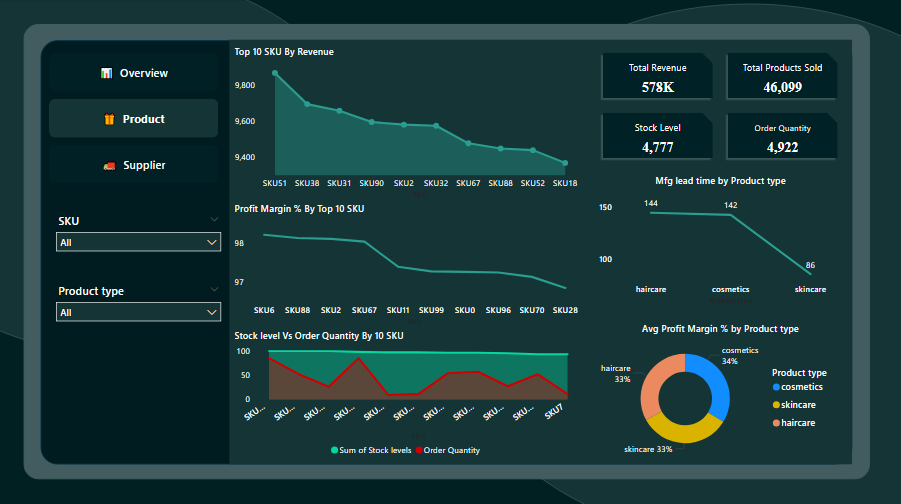

The page's visual inventory and layout, read from the dashboard file:
{"tool":"powerbi","page":{"name":" 🎁  Product","canvas":[1280,720],"ordinal":1},"visuals":[{"type":"areaChart","title":"Top 10 SKU By Revenue","fields":{"Category":["supply_chain_dataset.SKU"],"Y":["Measures (2).Total Revenue"]},"box":[328.8,66.6,498.9,222.5],"z":0},{"type":"lineChart","title":"Profit Margin % By Top 10 SKU","fields":{"Category":["supply_chain_dataset.SKU"],"Y":["Sum(supply_chain_dataset.Profit Margin %)"]},"box":[328.8,289.1,498.9,180],"z":1000},{"type":"areaChart","title":"Stock level Vs Order Quantity By 10 SKU","fields":{"Y":["Sum(supply_chain_dataset.Stock levels)","Measures (2).Order Quantity"],"Category":["supply_chain_dataset.SKU"]},"box":[329.2,468.7,498.9,189.8],"z":2000},{"type":"cardVisual","fields":{"Data":["Measures (2).Total Revenue","Measures (2).Total Products Sold","Measures (2).Stock Level","Measures (2).Order Quantity"]},"box":[844.7,66.6,355.7,171.5],"z":3000},{"type":"donutChart","fields":{"Category":["supply_chain_dataset.Product type"],"Y":["Measures (2).Avg Profit Margin %"]},"box":[844.7,459.2,355.7,199.8],"z":4000},{"type":"lineChart","title":"Mfg lead time by Product type","fields":{"Category":["supply_chain_dataset.Product type"],"Y":["Sum(supply_chain_dataset.Mfg lead time)"]},"box":[844.7,249.4,355.7,189.9],"z":5000},{"type":"pageNavigator","box":[70.9,78,240.9,185.7],"z":6000},{"type":"slicer","fields":{"Values":["supply_chain_dataset.SKU"]},"box":[70.9,299.1,253.7,80.8],"z":7000},{"type":"slicer","fields":{"Values":["supply_chain_dataset.Product type"]},"box":[70.9,398.3,253.7,80.8],"z":8000}]}

Visuals, with their boxes in screenshot pixels (x1, y1, x2, y2), scaled from the page's 1280x720 canvas onto the 901x504 screenshot:
"Top 10 SKU By Revenue" areaChart: <region>231, 47, 583, 202</region>
"Profit Margin % By Top 10 SKU" lineChart: <region>231, 202, 583, 328</region>
"Stock level Vs Order Quantity By 10 SKU" areaChart: <region>232, 328, 583, 461</region>
cardVisual - Measures (2).Total Revenue x Measures (2).Total Products Sold: <region>595, 47, 845, 167</region>
donutChart - supply_chain_dataset.Product type x Measures (2).Avg Profit Margin %: <region>595, 321, 845, 461</region>
"Mfg lead time by Product type" lineChart: <region>595, 175, 845, 308</region>
pageNavigator: <region>50, 55, 219, 185</region>
slicer - supply_chain_dataset.SKU: <region>50, 209, 228, 266</region>
slicer - supply_chain_dataset.Product type: <region>50, 279, 228, 335</region>
